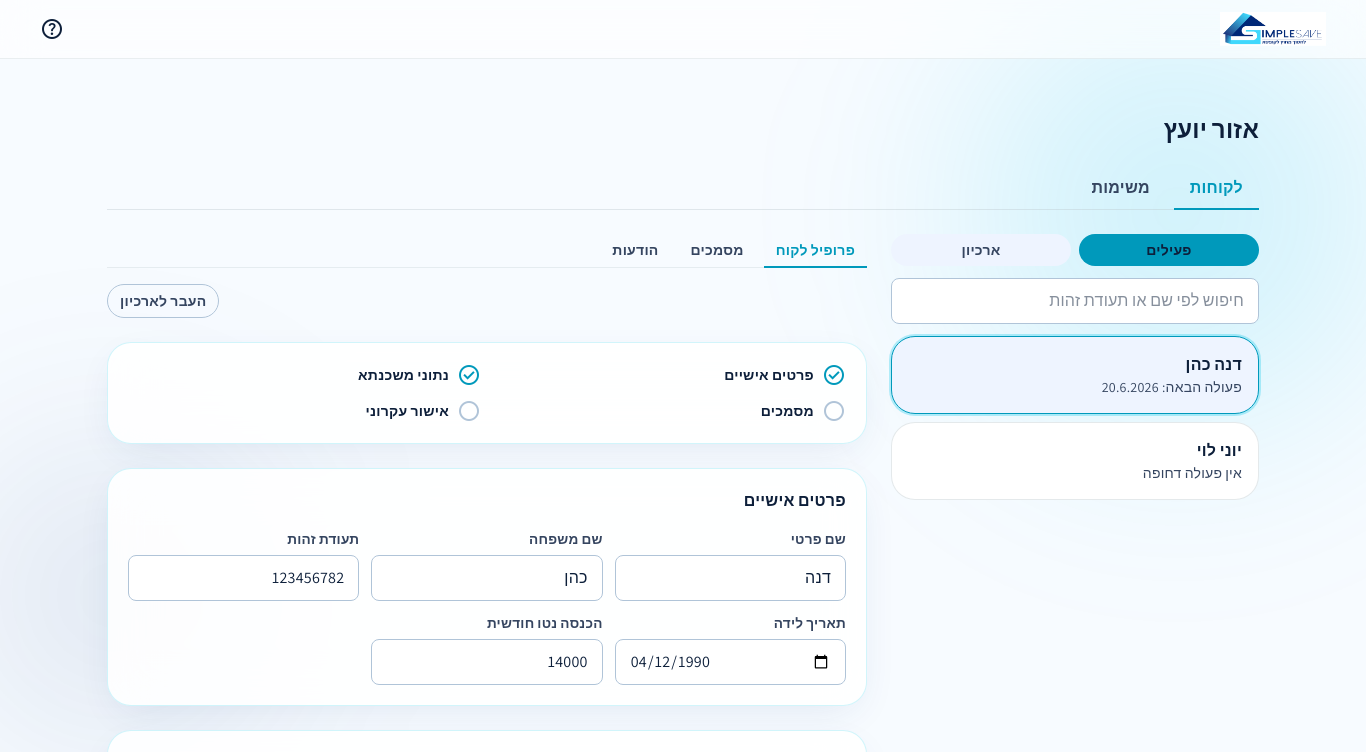
Scenario: AdvisorScreen › selecting a different client in the list swaps the profile shown
Click the text "יוני לוי": [1219, 450] box x1=1197 y1=440 x2=1242 y2=461
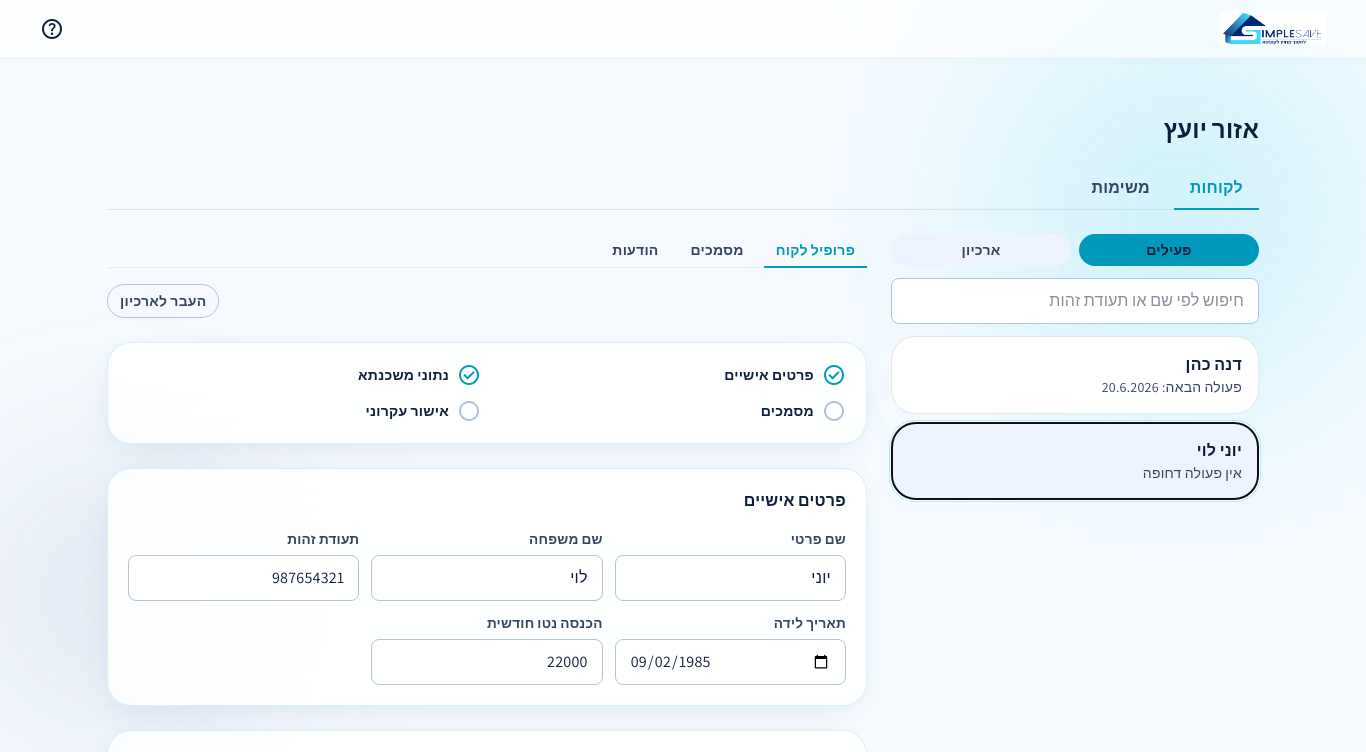
Result: the field showing "יוני" below "שם פרטי" is shown at x1=615 y1=555 x2=846 y2=601
